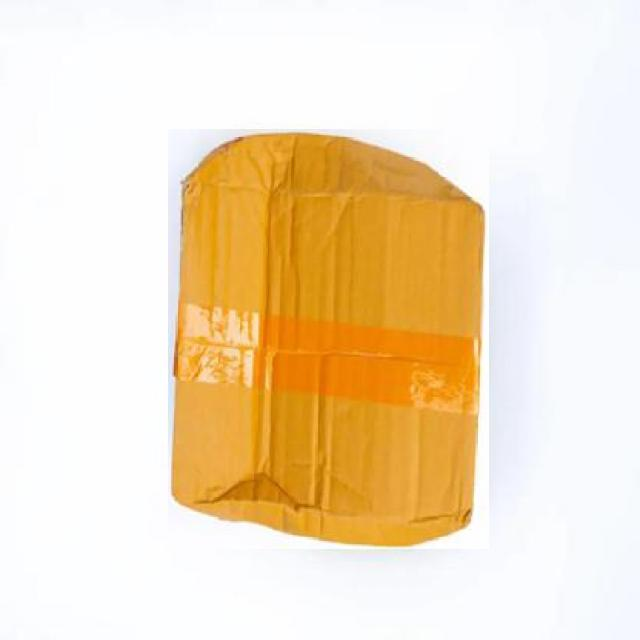defect: (168, 129, 489, 549)
